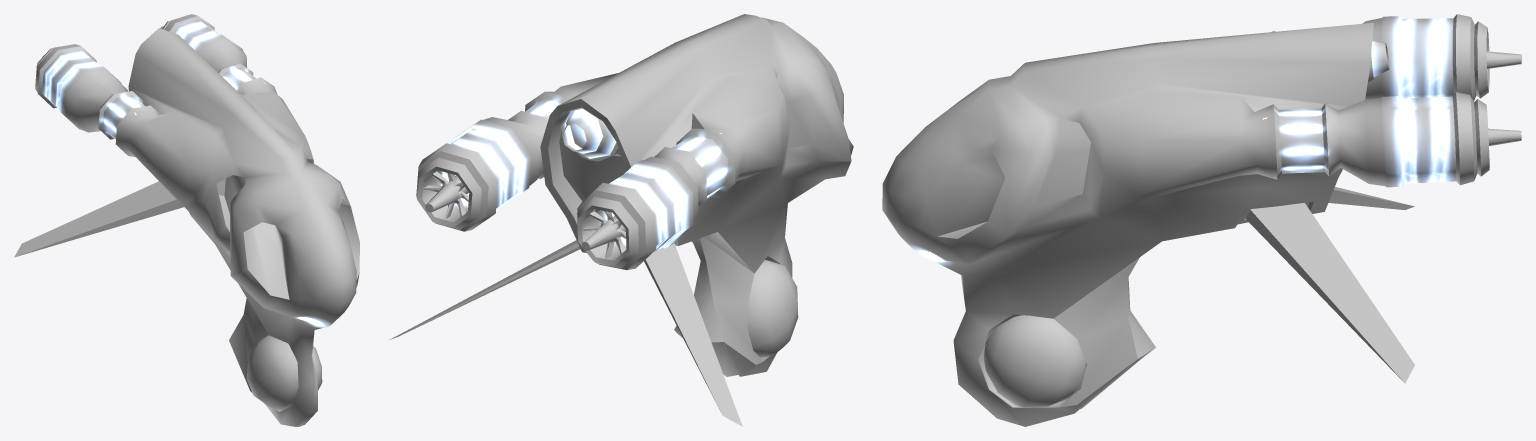
The model's file is NautikaFighter.FBX.
The picture shows the model from 3 angles, left to right: view 1: azimuth 30°, elevation 25°; view 2: azimuth 150°, elevation 25°; view 3: azimuth 270°, elevation 25°; orthographic projection. The views are drawn at different scales.
Parts seen in each view (by area): view 1: NautikaFighter, LandingLeg01, FighterCabin; view 2: NautikaFighter, LandingLeg01, FighterCabin, LandingLeg00, LandingArm; view 3: NautikaFighter, LandingLeg00, FighterCabin, LandingLeg01.
Part boxes in pixels (x1,y1,x2,y2): NautikaFighter: (35, 14, 359, 426); LandingLeg01: (14, 181, 183, 257); FighterCabin: (246, 335, 322, 410); NautikaFighter: (416, 14, 853, 376); LandingLeg01: (644, 243, 742, 426); FighterCabin: (747, 260, 798, 357); LandingLeg00: (389, 240, 580, 339); LandingArm: (676, 332, 738, 376); NautikaFighter: (882, 14, 1521, 426); LandingLeg00: (1245, 203, 1414, 383); FighterCabin: (984, 315, 1085, 407); LandingLeg01: (1328, 187, 1414, 209).
Bounding box in the file's own units: 80.89 × 86.76 × 126.
